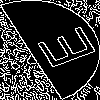E: (25, 25, 98, 75)
